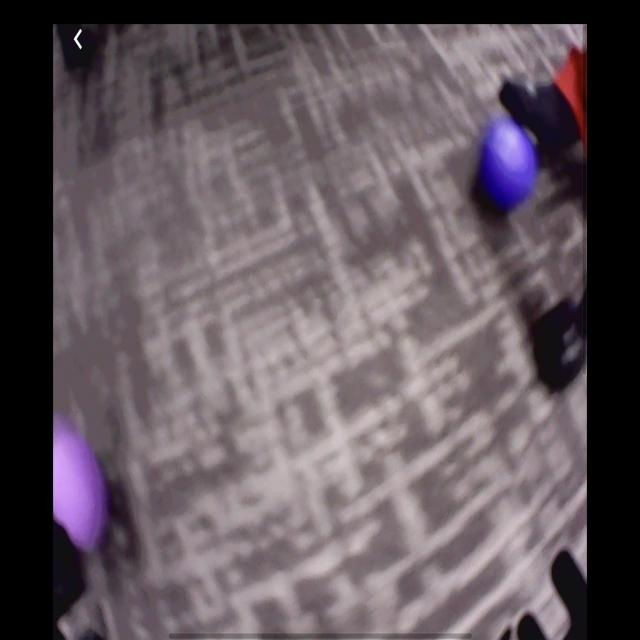ball: (55, 424, 103, 548), (479, 120, 538, 208)
